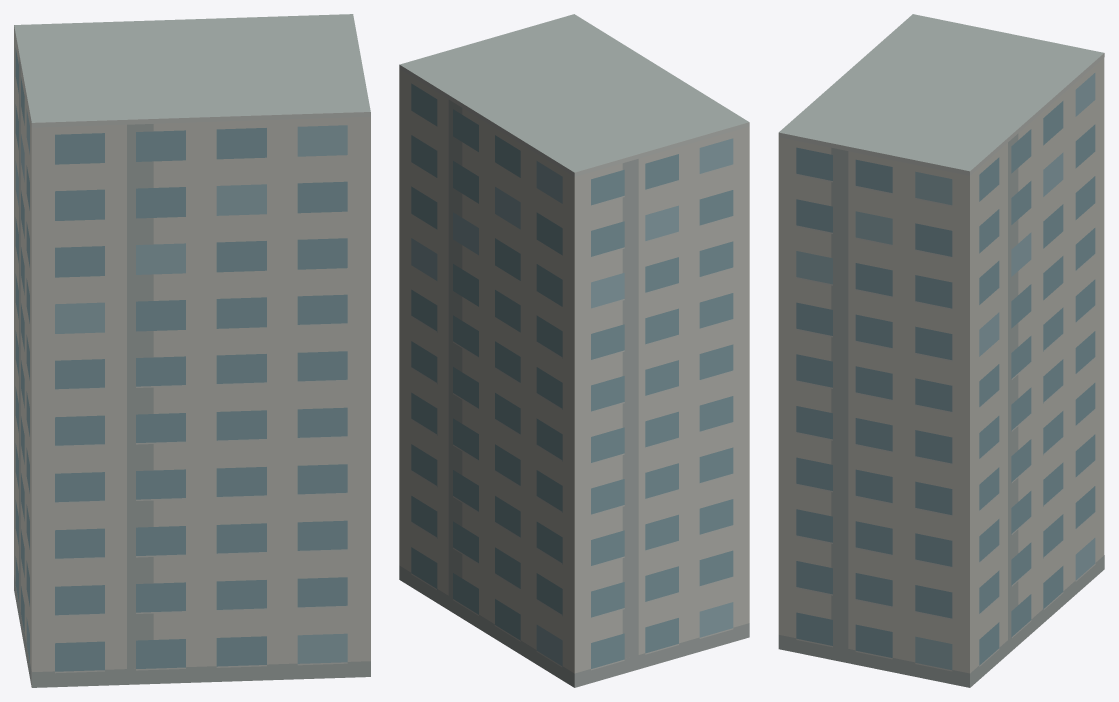
Rendered from residential-548e48b5-fbda-448d-b085-e969c16dafe6.glb.
3 renders of one model, left to right at view 1: azimuth 30°, elevation 25°; view 2: azimuth 150°, elevation 25°; view 3: azimuth 270°, elevation 25°, orthographic. The views are drawn at different scales.
Visible parts, largest first — view 1: residential-548e48b5-fbda-448d-b085-e969c16dafe6.tmp; view 2: residential-548e48b5-fbda-448d-b085-e969c16dafe6.tmp; view 3: residential-548e48b5-fbda-448d-b085-e969c16dafe6.tmp.
Part boxes in pixels (x1=…): residential-548e48b5-fbda-448d-b085-e969c16dafe6.tmp: x1=14, y1=14, x2=370, y2=687; residential-548e48b5-fbda-448d-b085-e969c16dafe6.tmp: x1=399, y1=14, x2=749, y2=687; residential-548e48b5-fbda-448d-b085-e969c16dafe6.tmp: x1=778, y1=14, x2=1104, y2=687.
Size of the model in its own units: 18.3 by 28 by 16.02.
